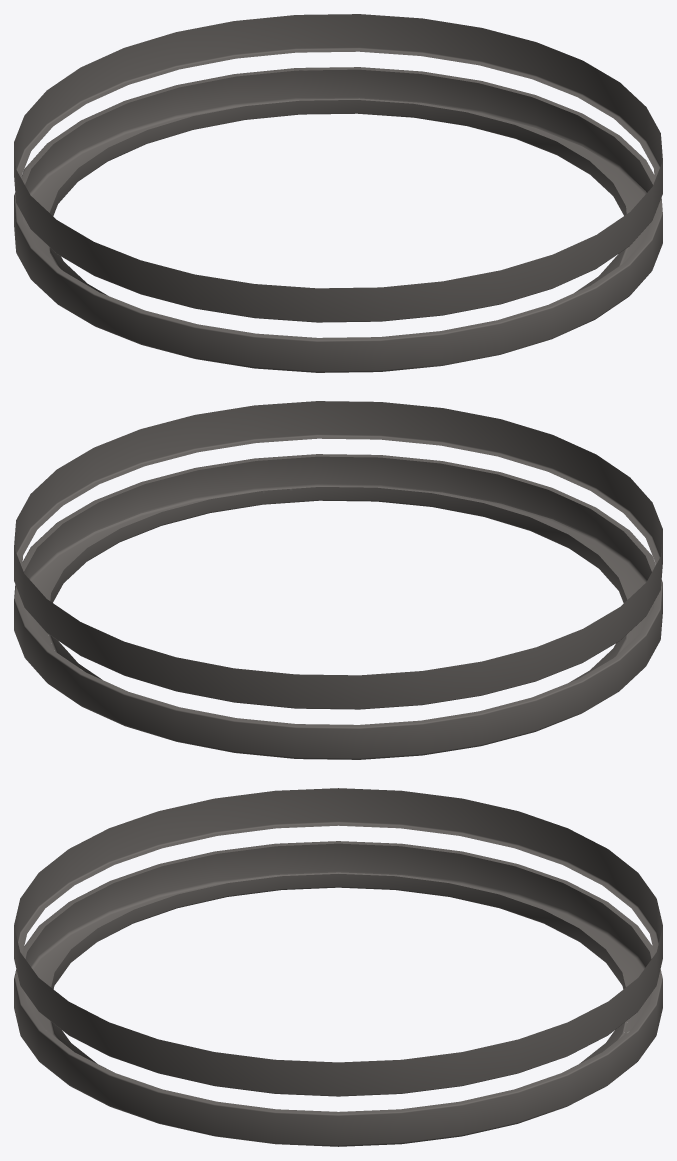
Rendered from CeilingLightFrame.fbx.
The picture shows the model from 3 angles, top to bottom: view 1: azimuth 30°, elevation 25°; view 2: azimuth 150°, elevation 25°; view 3: azimuth 270°, elevation 25°; orthographic projection.
Visible parts, largest first — view 1: defaultMaterial.002; view 2: defaultMaterial.002; view 3: defaultMaterial.002.
Boxes of the visible parts, box(x1,y1,x2,y2) form: defaultMaterial.002: box(14, 14, 662, 372); defaultMaterial.002: box(14, 401, 662, 759); defaultMaterial.002: box(14, 788, 662, 1146).
Size of the model in its own units: 11.51 by 1.67 by 11.51.
1 material, 1 textured.
